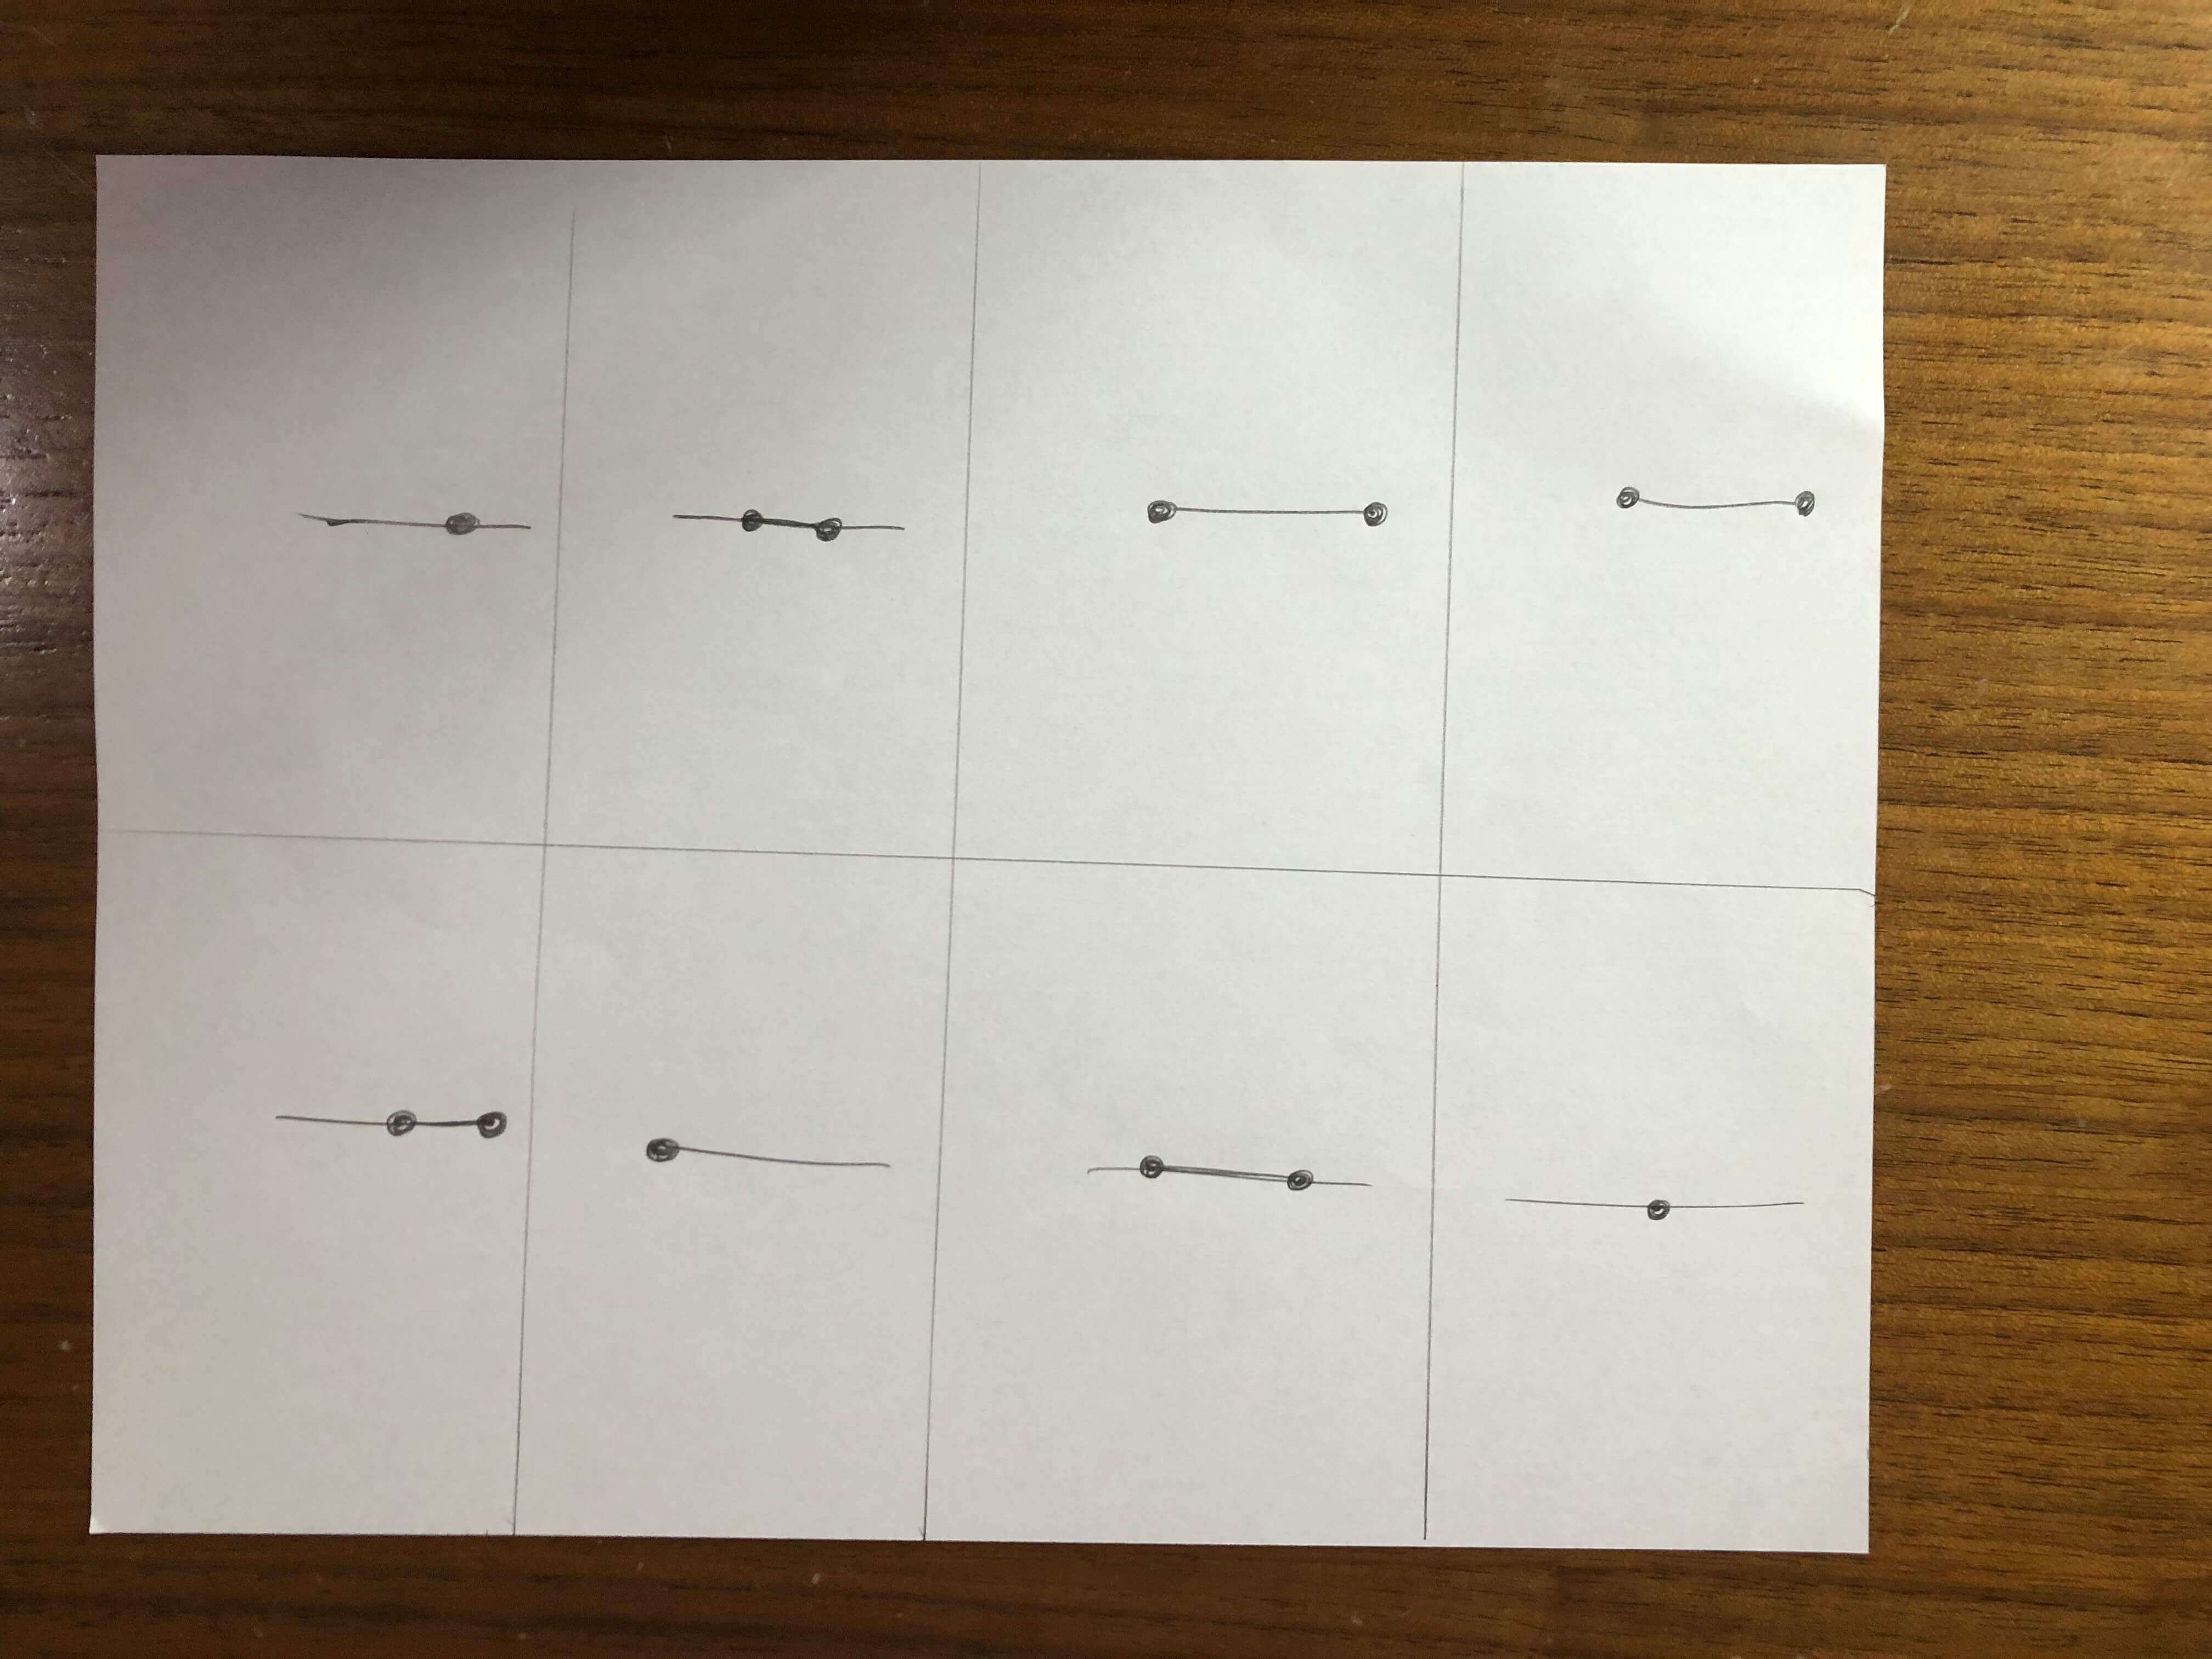slider: (1080, 1140, 1379, 1216), (1503, 1173, 1815, 1239), (667, 490, 923, 556), (1137, 479, 1400, 542), (636, 1124, 897, 1185), (275, 1091, 516, 1157), (296, 498, 538, 551), (1609, 477, 1831, 530)
